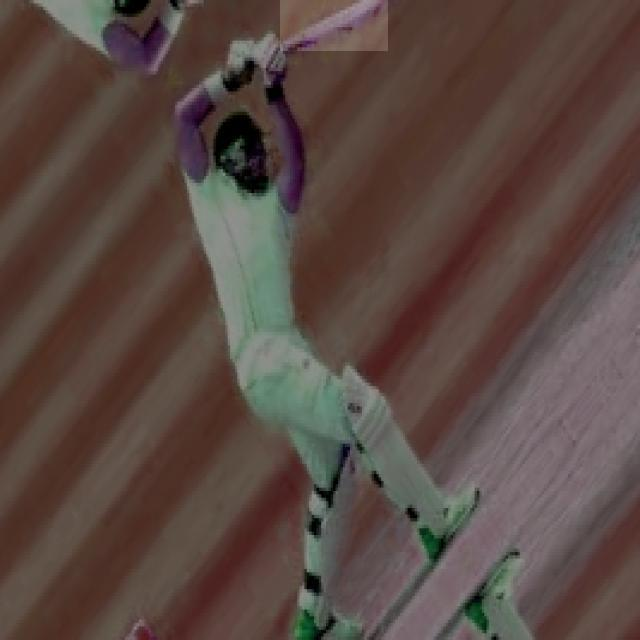bat: (282, 1, 388, 52)
